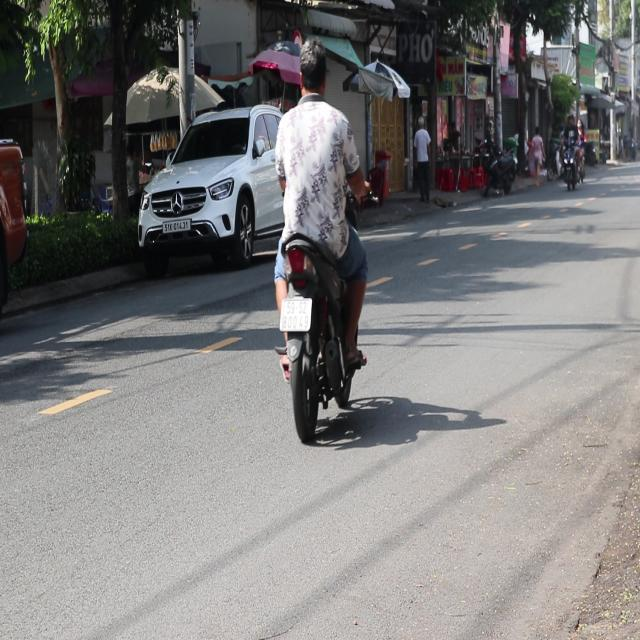licenseplate: (267, 41, 372, 438)
motorcyclist: (297, 41, 329, 99)
nohelmet: (280, 296, 312, 331)
